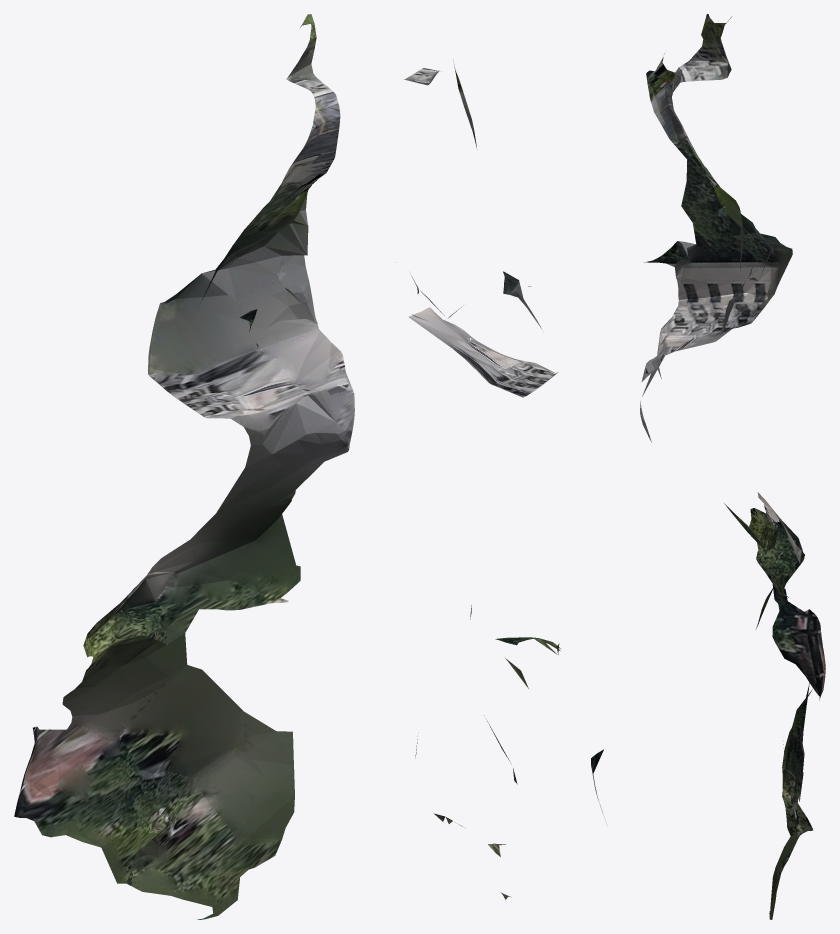
The model's file is Tile_+000_+001.glb.
3 renders of one model, left to right at view 1: azimuth 30°, elevation 25°; view 2: azimuth 150°, elevation 25°; view 3: azimuth 270°, elevation 25°, orthographic. The views are drawn at different scales.
Parts seen in each view (by area): view 1: Node; view 2: Node; view 3: Node.
Part boxes in pixels (x1,y1,x2,y2): Node: (14, 14, 354, 919); Node: (396, 60, 603, 899); Node: (640, 14, 825, 919).
Bounding box in the file's own units: 41.4 × 139 × 24.73.
1 material, 1 textured.
